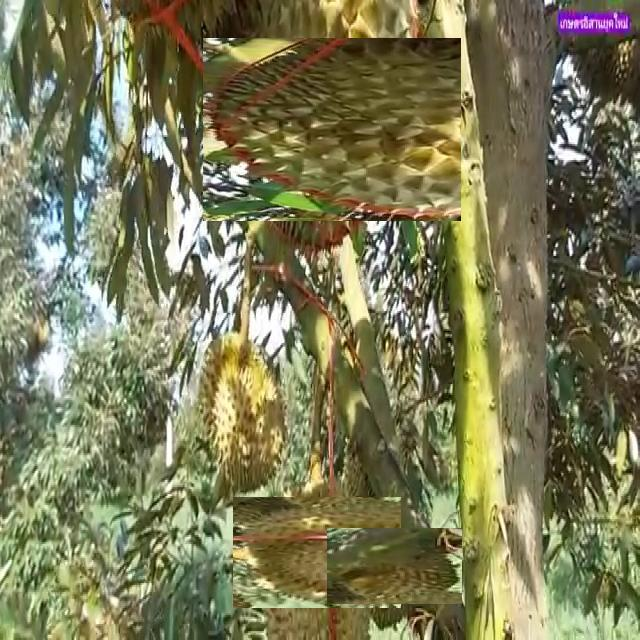durian: (221, 19, 442, 240), (247, 482, 387, 622), (197, 328, 290, 497), (341, 512, 448, 619)
